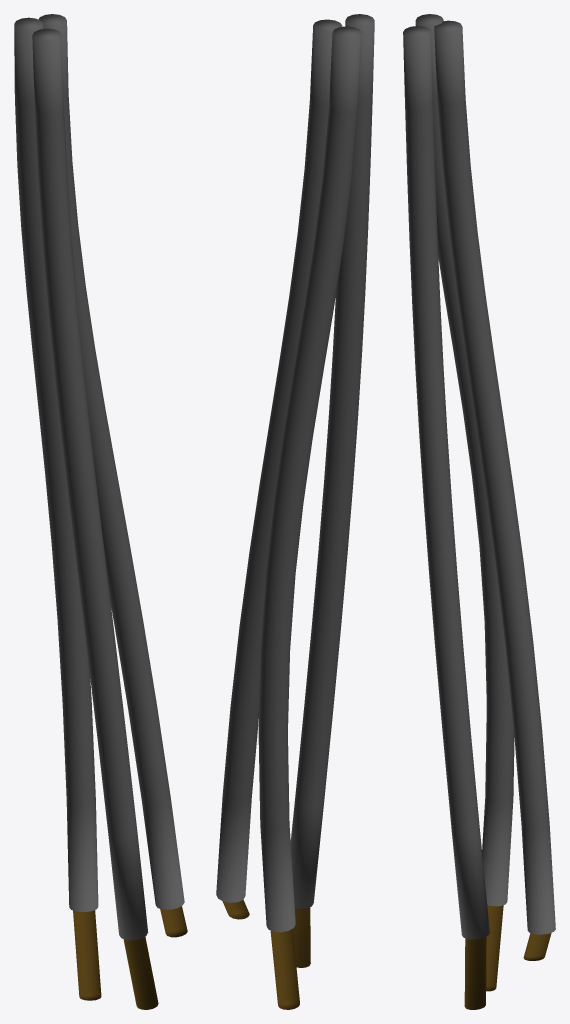
File: cable tri long.glb
3 renders of one model, left to right at view 1: azimuth 30°, elevation 25°; view 2: azimuth 150°, elevation 25°; view 3: azimuth 330°, elevation 25°, orthographic. The views are drawn at different scales.
Parts seen in each view (by area): view 1: BézierCurve; view 2: BézierCurve; view 3: BézierCurve.
Boxes of the visible parts, box(x1,y1,x2,y2) form: BézierCurve: box(14, 14, 187, 1009); BézierCurve: box(216, 14, 374, 1009); BézierCurve: box(403, 14, 555, 1009).
Bounding box in the file's own units: 0.3648 × 2.23 × 0.2582.
